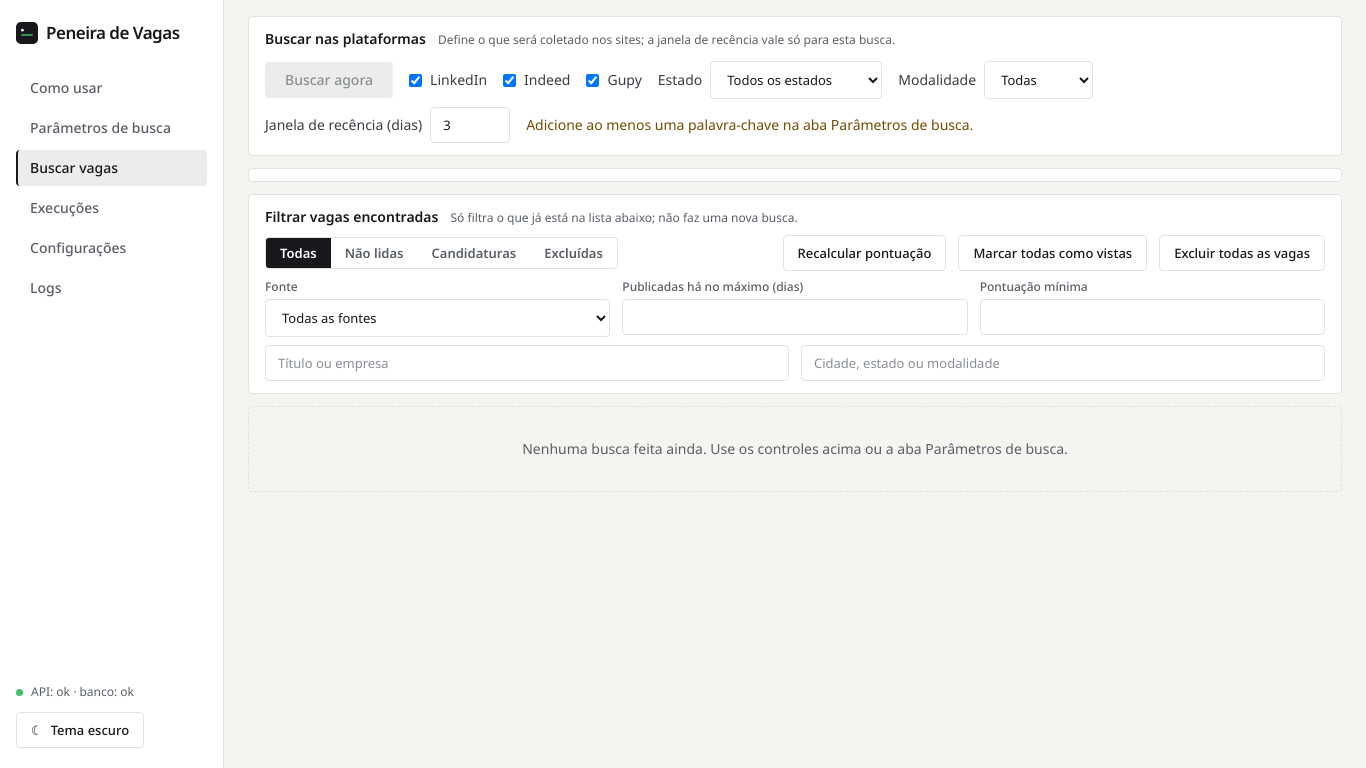
it: App › abre na tela Buscar vagas e alterna para Execuções
Expected: the tab "Buscar vagas" is shown, [16,150,207,186]
Click the tab "Execuções" at (112, 208), box [16,190,207,226]
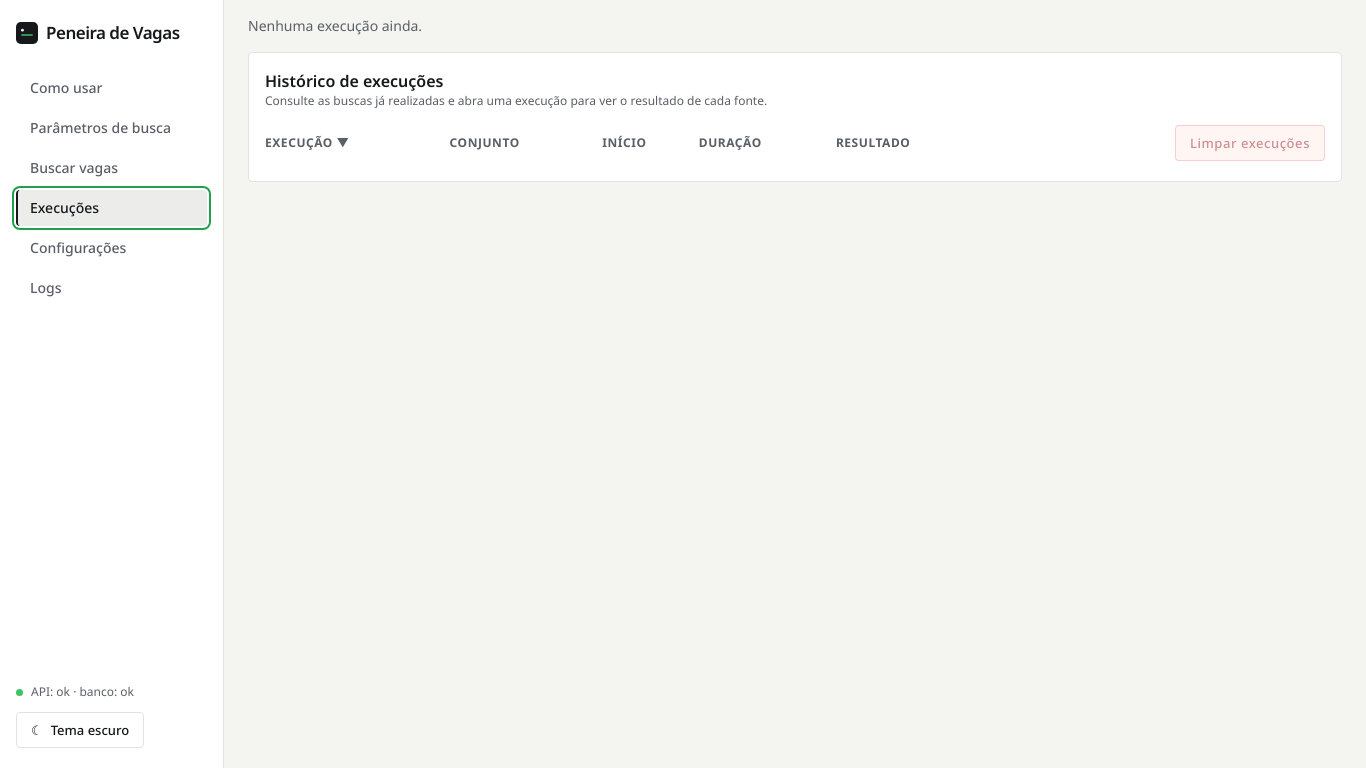
Expected: the text "Nenhuma execução ainda." is shown, [248,16,422,35]
